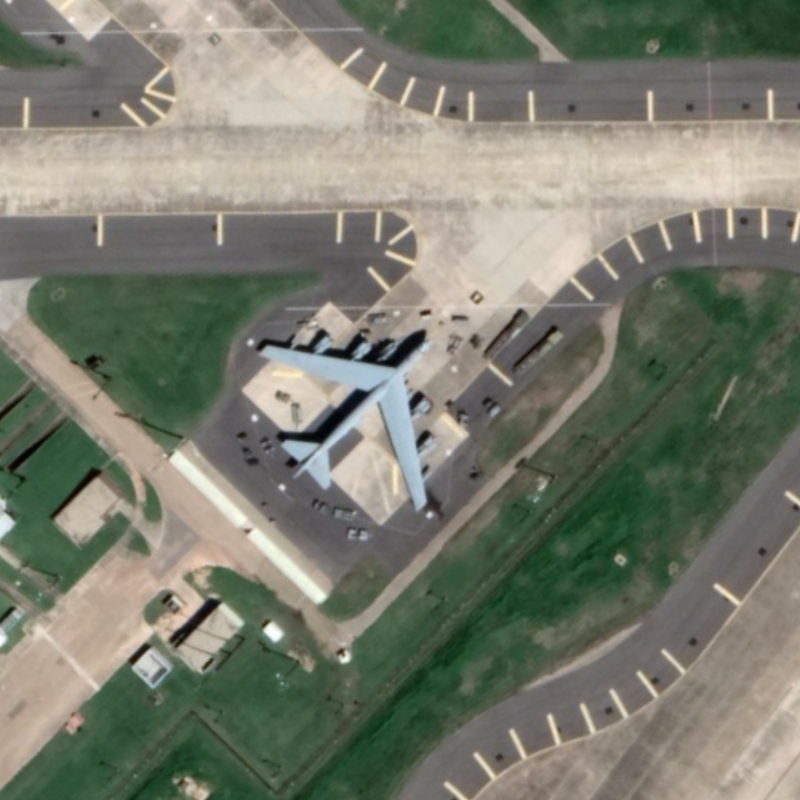A8: (240, 310, 453, 520)
